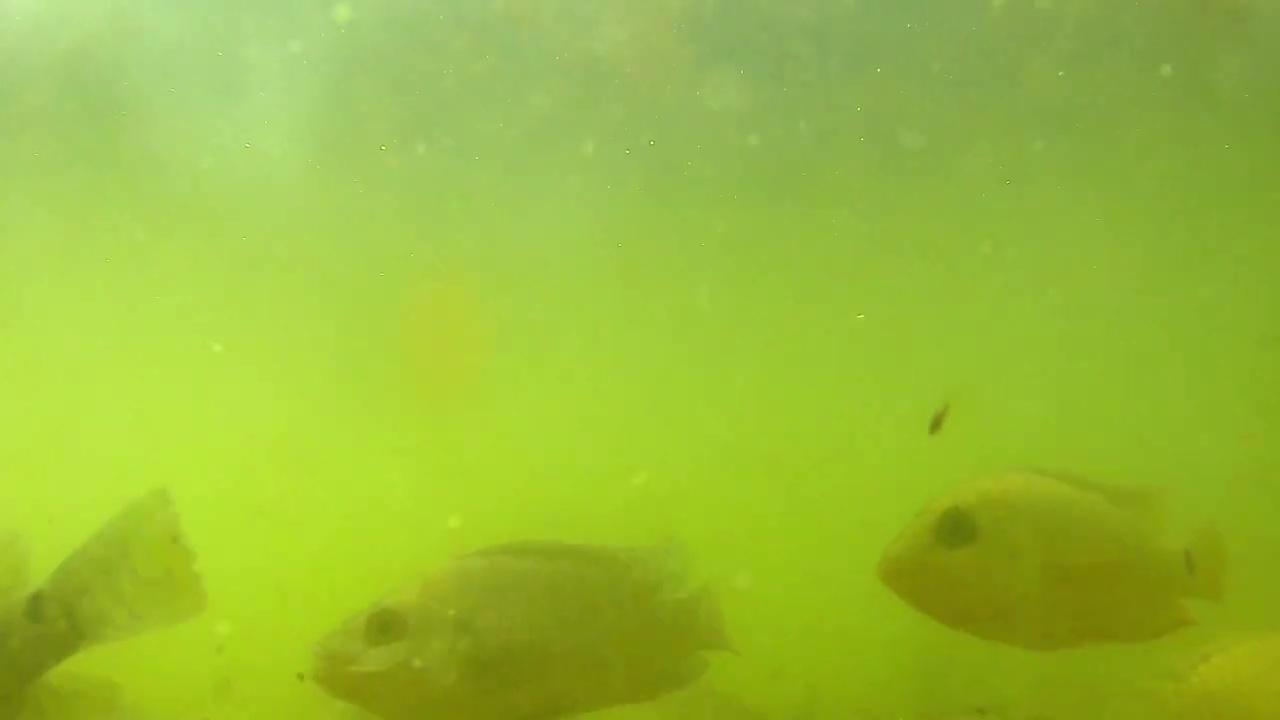Tilapia: (301, 504, 738, 720), (859, 440, 1246, 676)
